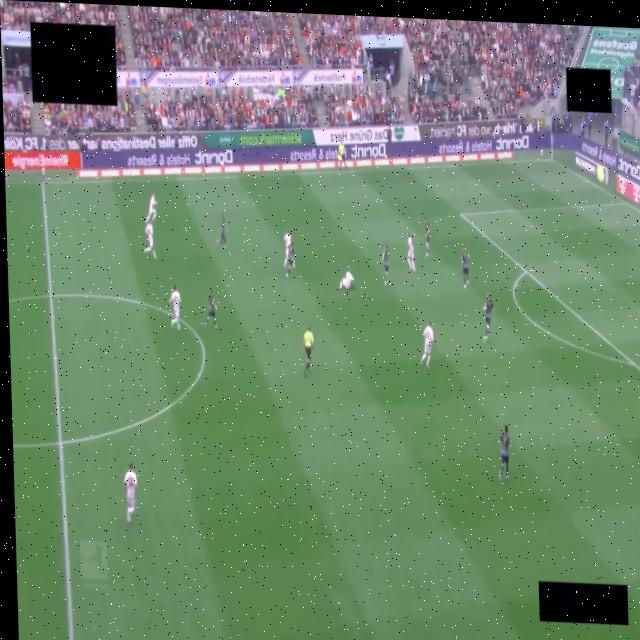player: (124, 463, 138, 524), (498, 424, 511, 480), (420, 323, 433, 369), (483, 293, 493, 341), (143, 222, 155, 259), (170, 286, 180, 329), (204, 289, 215, 328), (284, 240, 294, 276), (461, 246, 469, 288), (216, 215, 226, 248), (145, 193, 156, 223), (407, 234, 415, 272), (283, 230, 291, 267), (424, 217, 431, 258), (381, 246, 388, 286), (339, 271, 353, 290)
referee: (304, 326, 313, 377)
